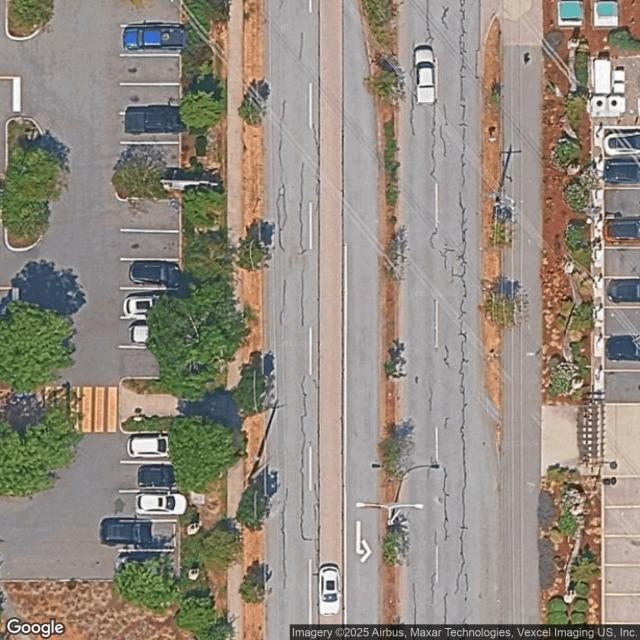car: (100, 517, 174, 549), (124, 104, 186, 134), (121, 23, 186, 51), (128, 260, 182, 288), (135, 492, 187, 516), (136, 464, 176, 492), (126, 433, 169, 458), (122, 292, 162, 318), (603, 159, 640, 183), (321, 566, 338, 616), (606, 335, 640, 360), (607, 278, 640, 303), (604, 220, 640, 242), (604, 133, 640, 155), (127, 319, 160, 342), (612, 66, 626, 93)
lot_boundary: (0, 0, 182, 581), (590, 53, 640, 640)
